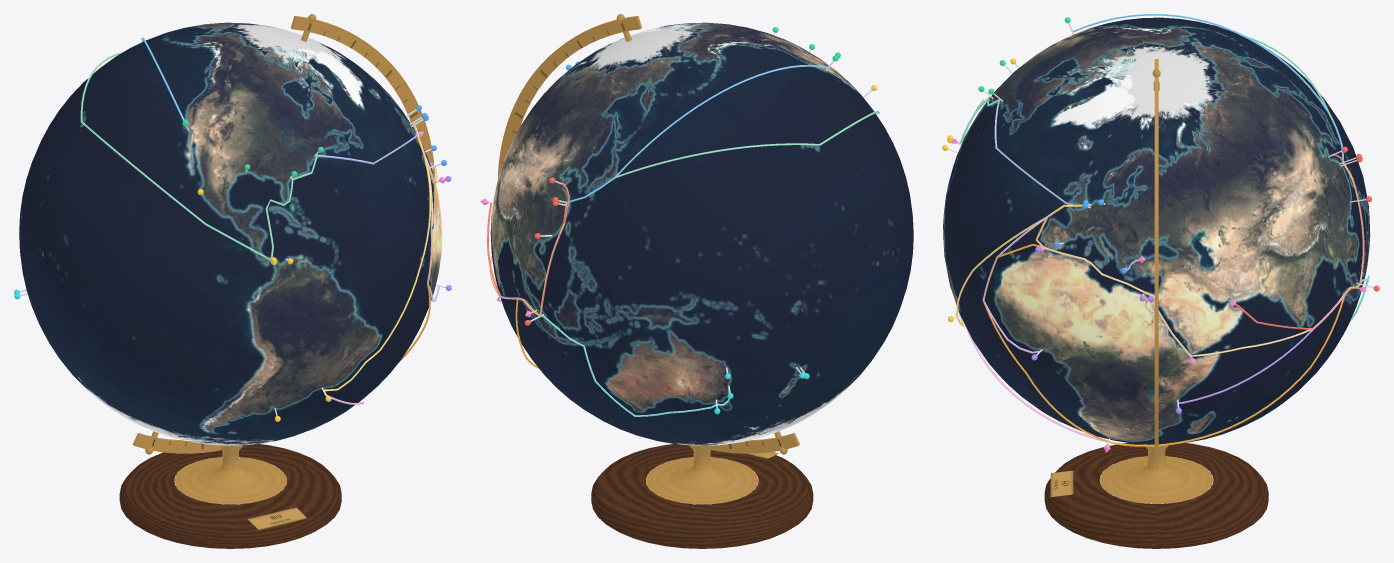
File: AtlasXR_web.glb
3 renders of one model, left to right at view 1: azimuth 30°, elevation 25°; view 2: azimuth 150°, elevation 25°; view 3: azimuth 270°, elevation 25°, orthographic.
Parts seen in each view (by area): view 1: Globe_Sphere, Atlas_Base, Route_04, Route_07; view 2: Globe_Sphere, Atlas_Base, Route_04, Route_03, Route_09, Route_06; view 3: Globe_Sphere, Atlas_Base, Route_02, Route_01, Route_03.
Boxes of the visible parts, x1,y1,x2,y2 form: Globe_Sphere: (19, 22, 442, 445); Atlas_Base: (119, 14, 434, 548); Route_04: (80, 51, 317, 260); Route_07: (324, 126, 431, 391); Globe_Sphere: (490, 22, 913, 445); Atlas_Base: (498, 14, 813, 548); Route_04: (607, 110, 879, 183); Route_03: (567, 64, 828, 202); Route_09: (540, 315, 729, 416); Route_06: (487, 183, 569, 315); Globe_Sphere: (943, 17, 1370, 444); Atlas_Base: (1044, 59, 1268, 548); Route_02: (983, 204, 1360, 446); Route_01: (1036, 163, 1364, 356); Route_03: (1072, 14, 1344, 162).
Size of what is drawn, in the model's own units: 0.4748 by 0.5531 by 0.4605.
Materials: 1 (1 with a texture image).
